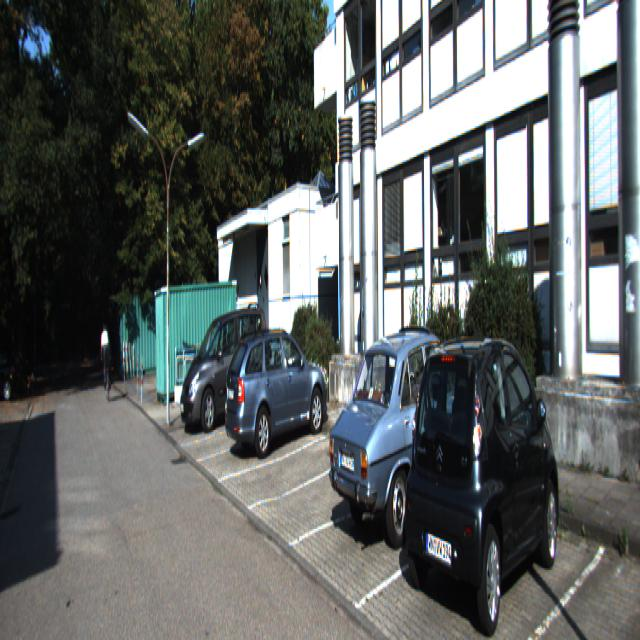Car: (403, 328, 564, 638), (327, 323, 494, 563), (220, 325, 328, 467), (175, 306, 268, 438)
